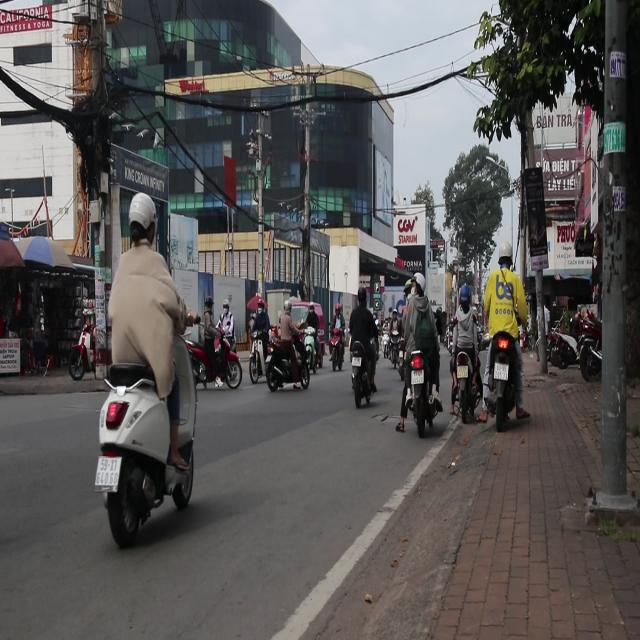motorbike: (95, 355, 196, 548), (484, 329, 522, 436), (402, 348, 440, 452), (186, 334, 244, 392), (264, 339, 312, 401), (449, 342, 479, 427), (574, 309, 602, 381), (548, 310, 580, 370), (352, 340, 373, 409), (68, 333, 95, 382), (330, 322, 346, 375)
